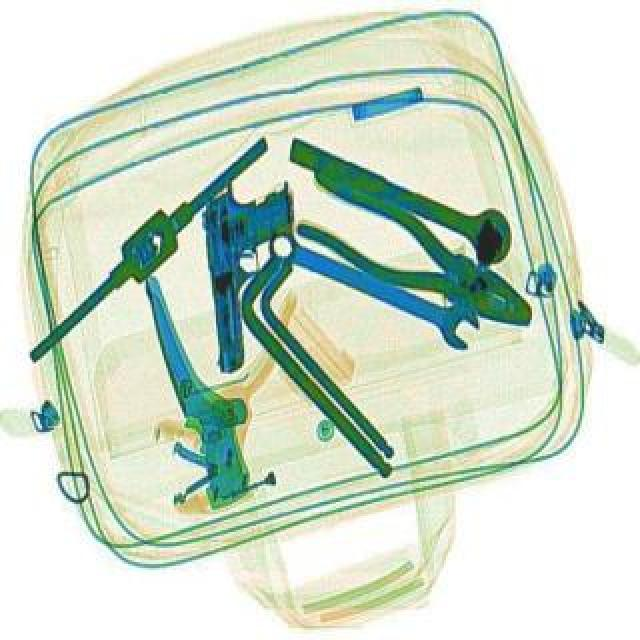gun: (194, 174, 314, 372)
scissors: (258, 214, 488, 352)
wrench: (278, 160, 550, 352)
